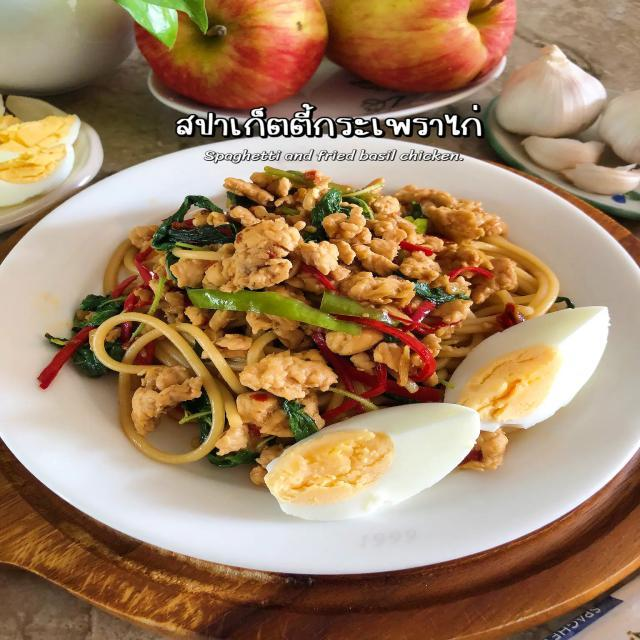cac loai rau cu: (173, 280, 401, 339), (44, 289, 154, 390), (148, 196, 261, 249)
mi ga hung que kem: (42, 160, 622, 534)
soi mi khoai lang: (108, 319, 226, 462), (464, 246, 575, 326)
thit ga: (195, 240, 473, 308), (223, 334, 357, 409), (395, 185, 526, 252), (113, 360, 226, 432), (321, 211, 428, 279), (214, 165, 331, 208), (456, 254, 535, 302)
trung: (264, 399, 485, 528), (439, 304, 619, 438)
